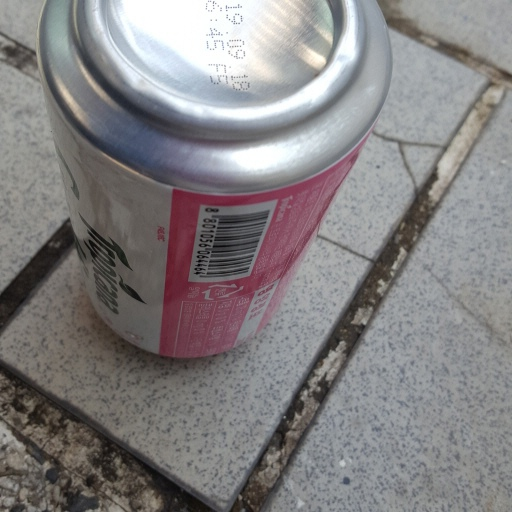Metal_0: (36, 1, 393, 362)
